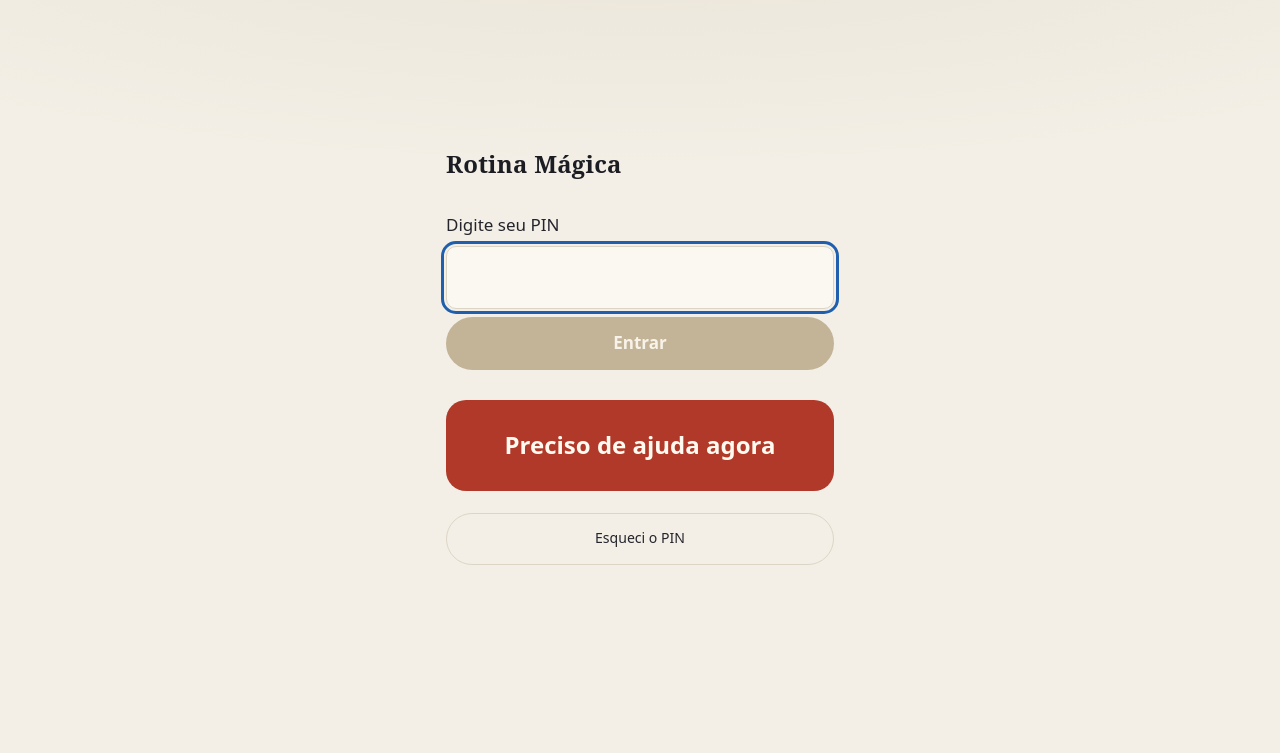
bloqueio com PIN › pede o PIN para entrar e aceita só o certo
The width and height of the screenshot is (1280, 753).
In the password field labelled "Digite seu PIN": (640, 278) [446,246,834,309], type "1111"
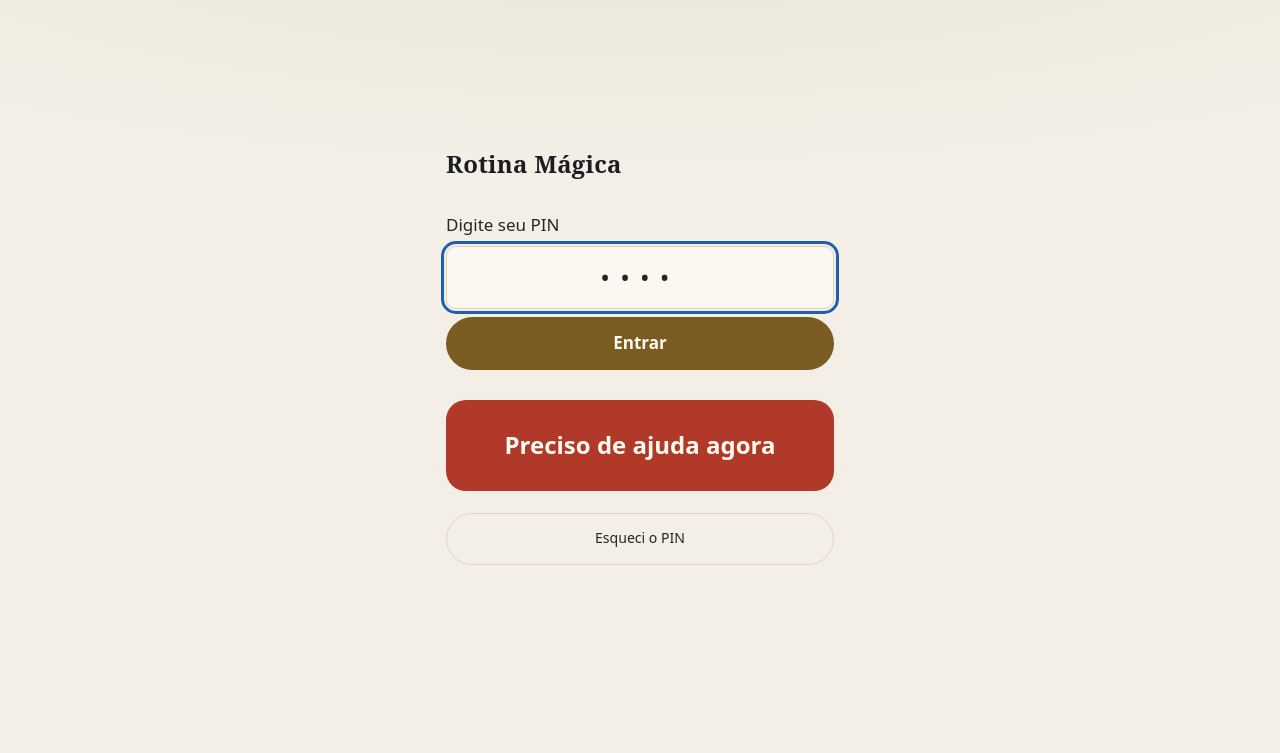
Click the button "Entrar": (640, 344) [446,317,834,370]
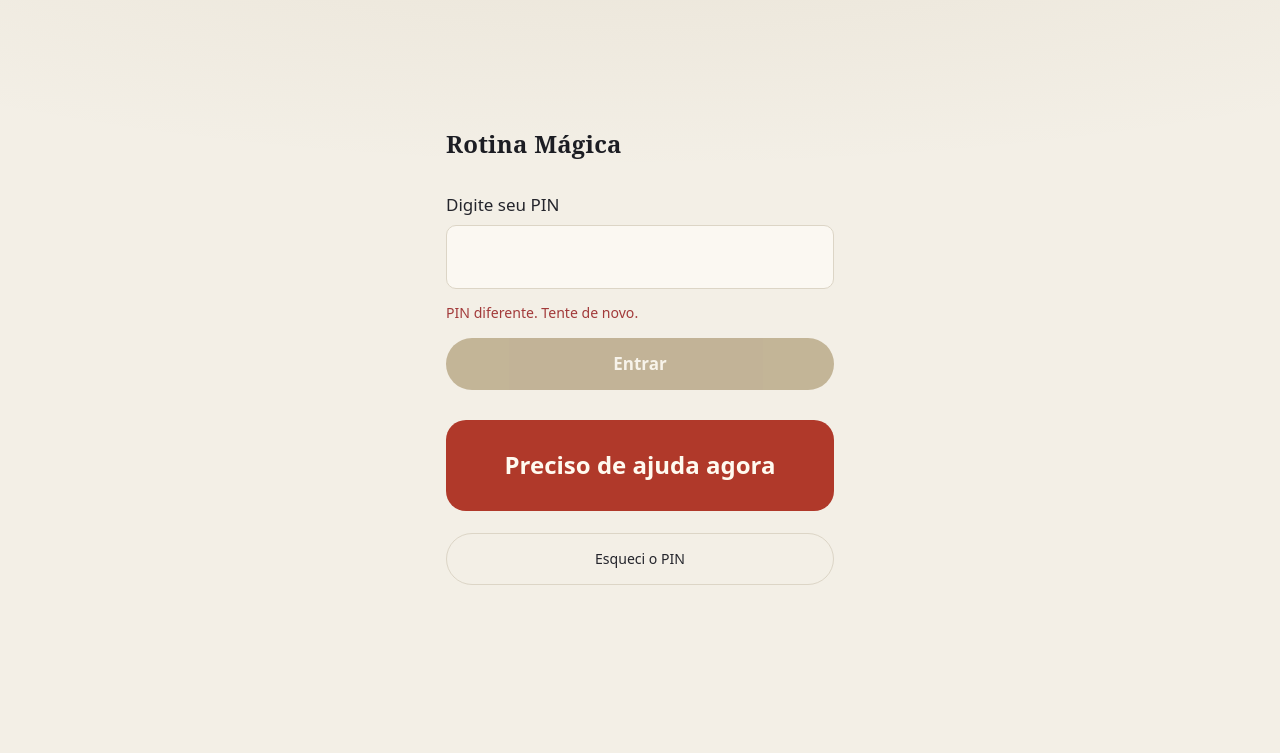
Check: the text "PIN diferente. Tente de novo." is shown, box [446,303,638,322]
In the password field labelled "Digite seu PIN": (640, 257) [446,226,834,289], type "2580"
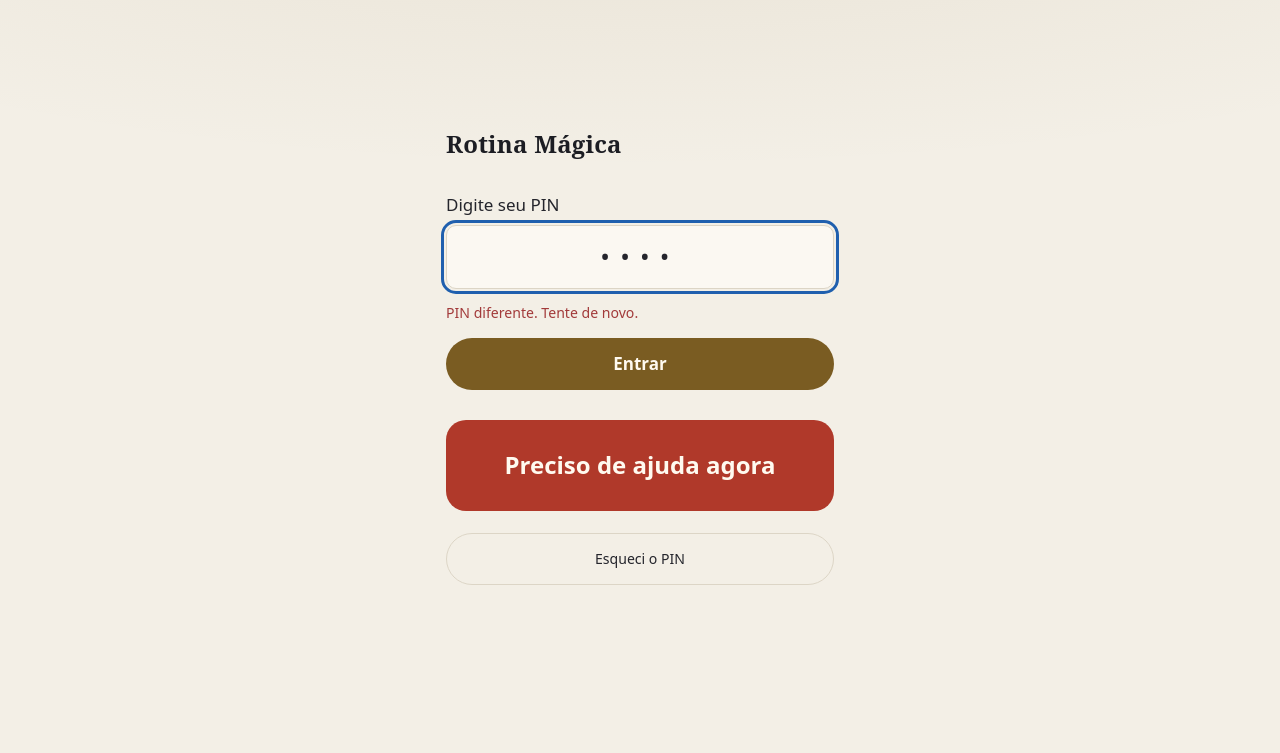
Click the button "Entrar": (640, 364) [446,338,834,390]
(page scrolled)
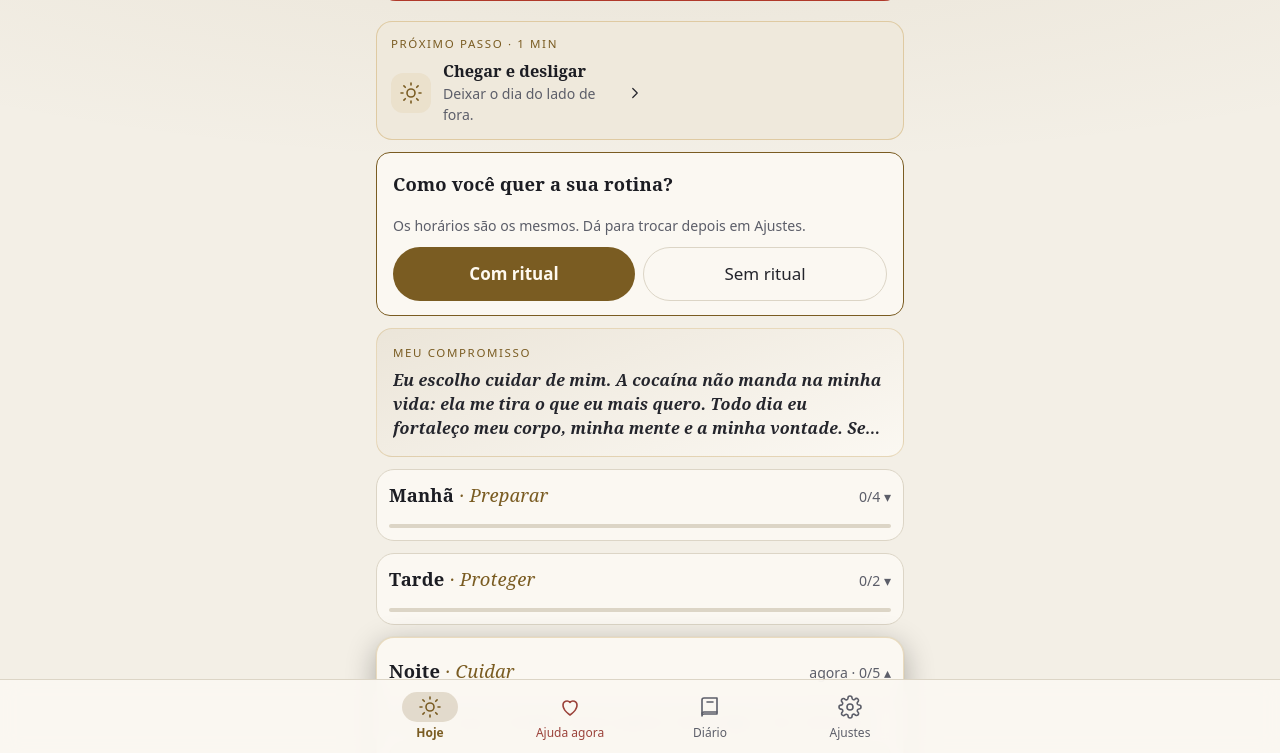
Check: the text "Meu compromisso" is shown, box [393,346,531,362]
